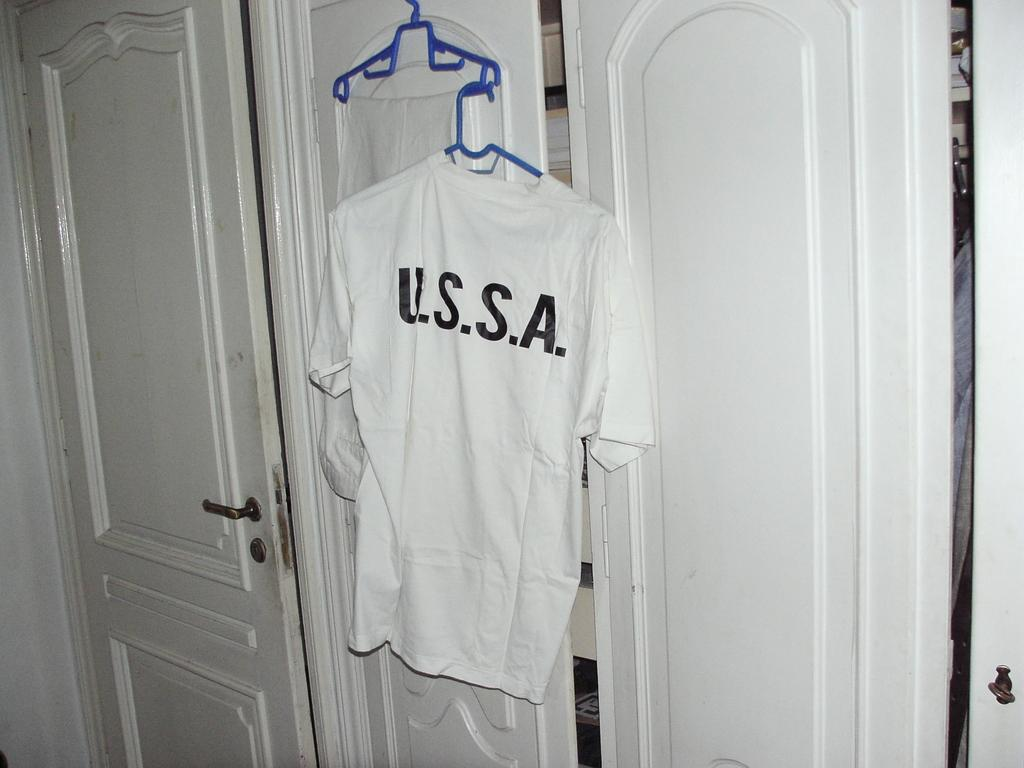handle: (190, 488, 264, 524)
